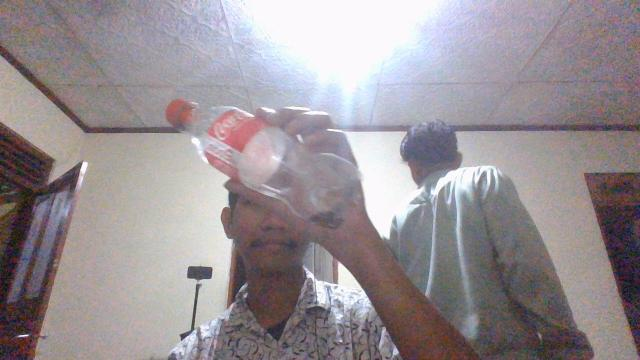coca-cola: (164, 97, 362, 228)
